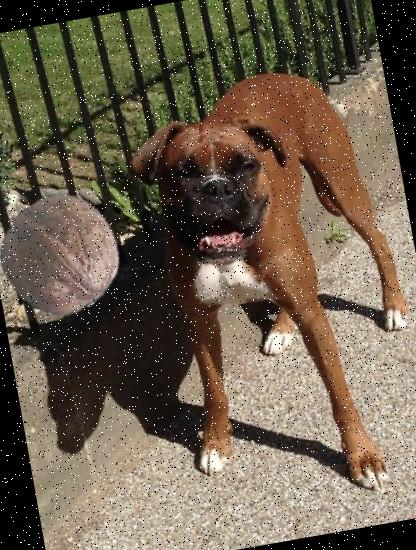Walnut: (0, 185, 129, 324)
